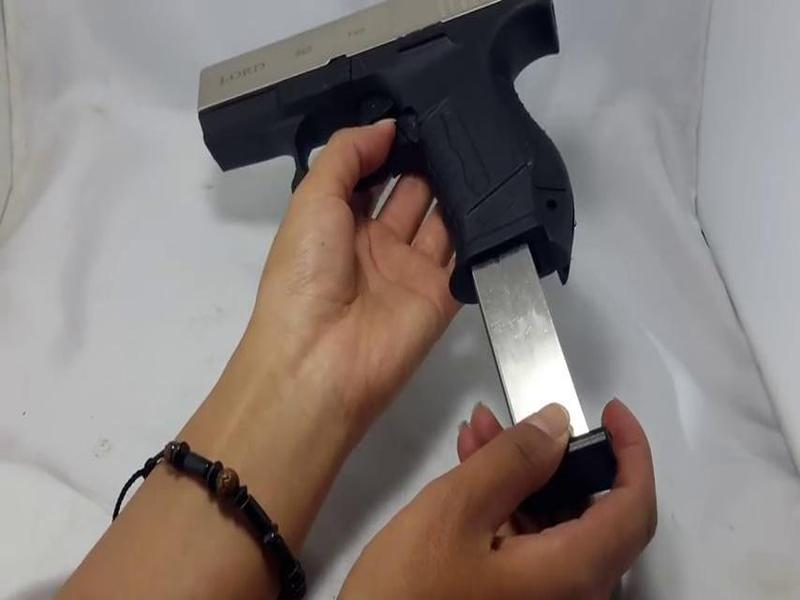Pistola: (184, 1, 597, 282)
